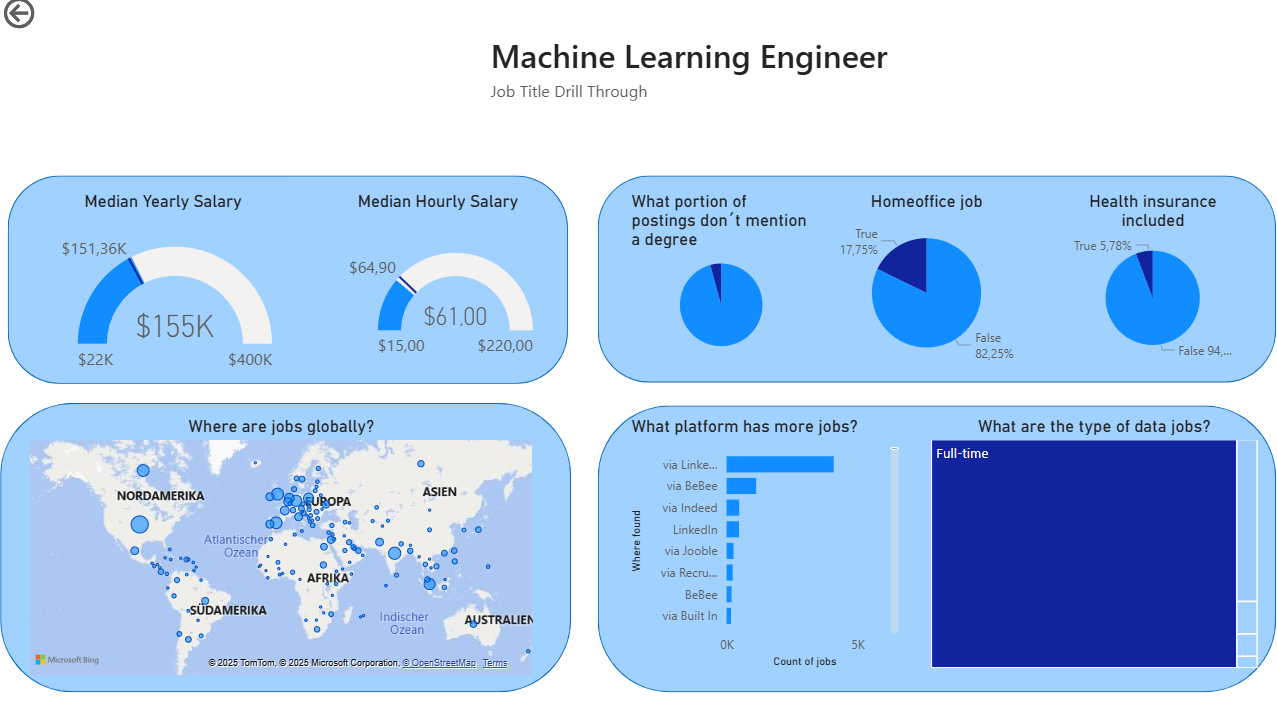

This screenshot's page, from the dashboard's own definition file:
{"tool":"powerbi","page":{"name":"Job Title Drill Through","canvas":[1280,720],"ordinal":1},"visuals":[{"type":"group","id":"g1","title":"Group 1","box":[0.8,181,1270,513.9],"z":0},{"type":"shape","box":[595.8,181,675,206.1],"z":0,"group":"g1"},{"type":"actionButton","box":[0,0,100,40],"z":1000},{"type":"shape","box":[595.5,409.5,675,285.3],"z":1000,"group":"g1"},{"type":"actionButton","box":[0,0,100,40],"z":2000},{"type":"shape","box":[0.8,406.9,568,288],"z":2000,"group":"g1"},{"type":"cardVisual","fields":{"Data":["Min(job_postings_flat.job_title_short)1"]},"box":[459.7,19.8,520.5,108.3],"z":3000},{"type":"shape","box":[8.1,181,557.4,207.4],"z":3000,"group":"g1"},{"type":"gauge","title":"Median Yearly Salary","fields":{"Y":["Median(job_postings_flat.salary_year_avg)"],"MinValue":["Min(job_postings_flat.salary_year_avg)"],"MaxValue":["Max(job_postings_flat.salary_year_avg)"],"TargetValue":["Avg(job_postings_flat.salary_year_avg)1"]},"box":[50.2,196.8,227.2,210],"z":4000},{"type":"gauge","title":"Median Hourly Salary","fields":{"Y":["Median(job_postings_flat.salary_hour_avg)"],"MinValue":["Min(job_postings_flat.salary_hour_avg)1"],"MaxValue":["Max(job_postings_flat.salary_hour_avg)2"],"TargetValue":["Avg(job_postings_flat.salary_hour_avg)3"]},"box":[336.8,196.8,199.5,214],"z":5000},{"type":"pieChart","title":"What portion of postings don´t mention a degree","fields":{"Y":["CountNonNull(job_postings_flat.job_no_degree_mention)"],"Category":["job_postings_flat.job_no_degree_mention"]},"box":[624.8,196.8,188.9,170.4],"z":6000},{"type":"pieChart","title":"Homeoffice job","fields":{"Y":["CountNonNull(job_postings_flat.job_no_degree_mention)"],"Category":["job_postings_flat.job_work_from_home"]},"box":[823,196.8,199.5,184.9],"z":7000},{"type":"pieChart","title":"Health insurance included","fields":{"Y":["CountNonNull(job_postings_flat.job_no_degree_mention)"],"Category":["job_postings_flat.job_health_insurance"]},"box":[1050.2,196.8,196.8,175.7],"z":8000},{"type":"map","title":"Where are jobs globally?","fields":{"Category":["job_postings_flat.job_country"],"Size":["CountNonNull(job_postings_flat.job_title_short)"]},"box":[26.4,420.1,509.9,262.9],"z":9000},{"type":"treemap","title":"What are the type of data jobs?","fields":{"Group":["job_postings_flat.job_schedule_type"],"Values":["CountNonNull(job_postings_flat.job_schedule_type)"]},"box":[923.3,420.1,334.2,256.3],"z":10000},{"type":"barChart","title":"What platform has more jobs?","fields":{"Category":["job_postings_flat.job_via"],"Y":["CountNonNull(job_postings_flat.job_via)"]},"box":[624.8,420.1,276.1,256.3],"z":11000}]}

Visuals, with their boxes in screenshot pixels (x1, y1, x2, y2), scaled from the page's 1280x720 canvas onto the 1277x715 screenshot:
"Group 1" group: crop(1, 180, 1268, 690)
shape: crop(594, 180, 1268, 384)
actionButton: crop(0, 0, 100, 40)
shape: crop(594, 407, 1268, 690)
actionButton: crop(0, 0, 100, 40)
shape: crop(1, 404, 567, 690)
cardVisual - Min(job_postings_flat.job_title_short)1: crop(459, 20, 978, 127)
shape: crop(8, 180, 564, 386)
"Median Yearly Salary" gauge: crop(50, 195, 277, 404)
"Median Hourly Salary" gauge: crop(336, 195, 535, 408)
"What portion of postings don´t mention a degree" pieChart: crop(623, 195, 812, 365)
"Homeoffice job" pieChart: crop(821, 195, 1020, 379)
"Health insurance included" pieChart: crop(1048, 195, 1244, 370)
"Where are jobs globally?" map: crop(26, 417, 535, 678)
"What are the type of data jobs?" treemap: crop(921, 417, 1255, 672)
"What platform has more jobs?" barChart: crop(623, 417, 899, 672)
